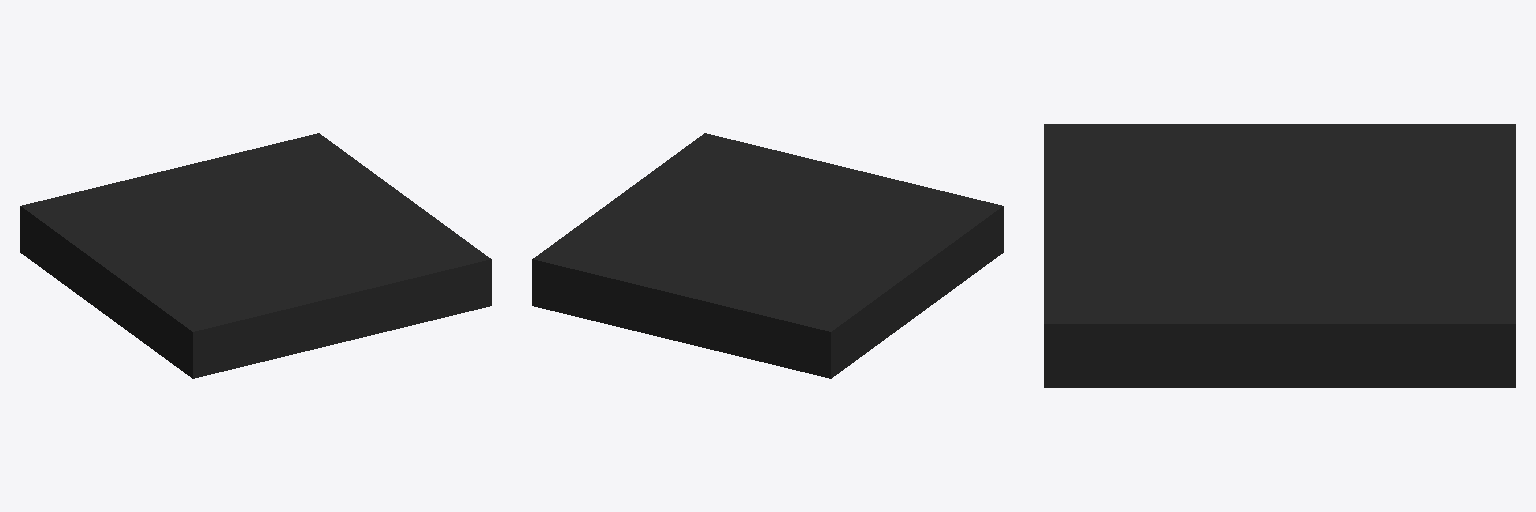
The robot description file, URDF, robot "square":
<?xml version="1.0" ?>
<robot name="square">

    <link name="base">
        <contact>
            <lateral_friction value="1.0"/>
            <spinning_friction value="1.0"/>
            <restitution value="0.5"/>
        </contact>
        <inertial>
            <origin rpy="0 0 0" xyz="0 0 0"/>
            <mass value="999999"/>
            <inertia ixx="0.2125" ixy="-0.005" ixz="0.0225" iyy="0.205" iyz="0.045" izz="0.0125"/>
        </inertial>
        <visual>
            <geometry>
                <mesh filename="square.dae" scale="10 10 10"/>
            </geometry>
            <origin rpy="0 0 0" xyz="0 0 0"/>
            <material name="black">
                <color rgba="0.2 0.2 0.2 1"/>
            </material>
        </visual>
        <collision>
            <geometry>
                 <mesh filename="square.dae" scale="10 10 50"/>
            </geometry>
            <origin rpy="0 0 0" xyz="0 0 0"/>
        </collision>
	</link>

</robot>

--- Facts derived from the render (not from the file) ---
The picture shows the robot from 3 angles, left to right: view 1: azimuth 30°, elevation 25°; view 2: azimuth 150°, elevation 25°; view 3: azimuth 270°, elevation 25°; orthographic projection.
Model square with 1 links and 0 joints (none), rooted at base, posed every joint at zero.
Links seen in each view (by area): view 1: base; view 2: base; view 3: base.
Boxes of the visible links, <box> form: base: <box>20,133,491,378</box>; base: <box>532,133,1003,378</box>; base: <box>1044,124,1515,387</box>.
Size in the robot's own frame: 0.4 by 0.4 by 0.06 metres.
1 mesh visuals loaded from 1 distinct referenced files (1 Collada DAE).